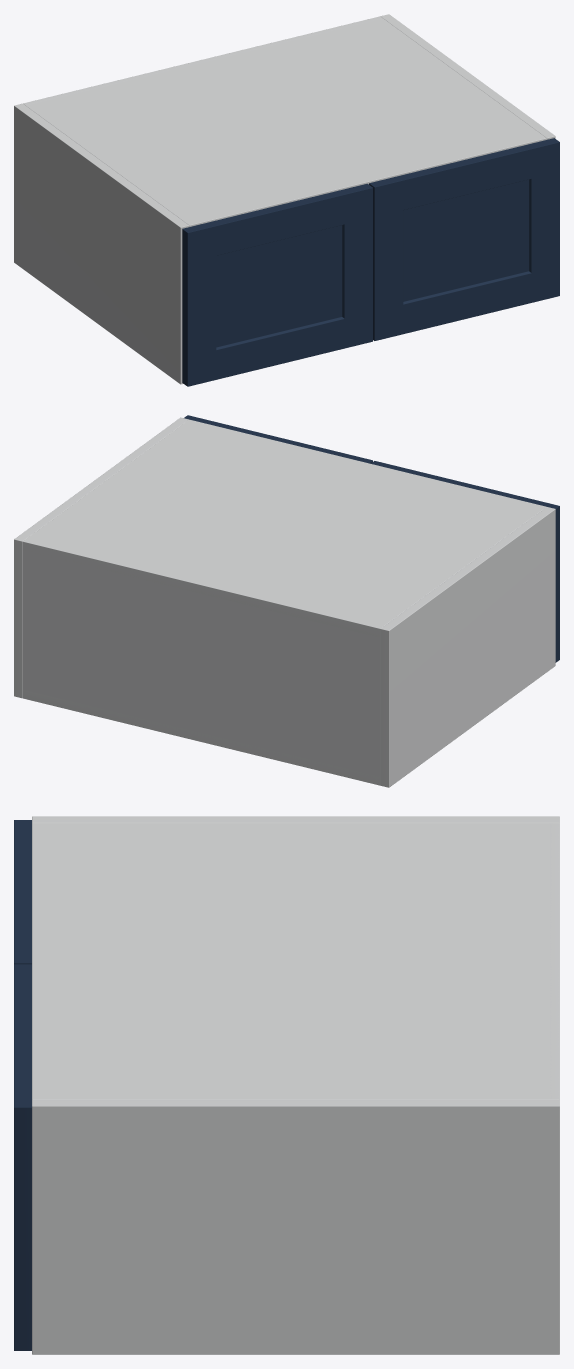
Rendered from oppein-pb-bss-w301224.glb.
The picture shows the model from 3 angles, top to bottom: view 1: azimuth 30°, elevation 25°; view 2: azimuth 150°, elevation 25°; view 3: azimuth 270°, elevation 25°; orthographic projection. The views are drawn at different scales.
Visible parts, largest first — view 1: Cabinet top, Door, Door.001, Cabinet side, Cabinet side.001, Cabinet back; view 2: Cabinet top, Cabinet back, Cabinet side, Cabinet side.001, Cabinet bottom, Door, Door.001; view 3: Cabinet top, Cabinet side.001, Door.001, Cabinet side, Cabinet back, Door.
Part boxes in pixels (box(x1,y1,x2,y2)): Cabinet top: box(26, 16, 546, 226); Door: box(182, 183, 372, 386); Door.001: box(369, 138, 559, 340); Cabinet side: box(14, 103, 189, 384); Cabinet side.001: box(380, 14, 555, 139); Cabinet back: box(23, 16, 382, 105); Cabinet top: box(23, 419, 546, 636); Cabinet back: box(23, 539, 382, 785); Cabinet side: box(380, 507, 555, 787); Cabinet side.001: box(14, 417, 188, 698); Cabinet bottom: box(23, 689, 380, 784); Door: box(371, 461, 559, 662); Door.001: box(184, 415, 372, 463); Cabinet top: box(32, 823, 559, 1099); Cabinet side.001: box(32, 1099, 559, 1354); Door.001: box(14, 964, 31, 1350); Cabinet side: box(32, 816, 559, 823); Cabinet back: box(549, 823, 559, 1099); Door: box(14, 820, 31, 964).
Size of the model in its own units: 0.762 by 0.3048 by 0.6064.
